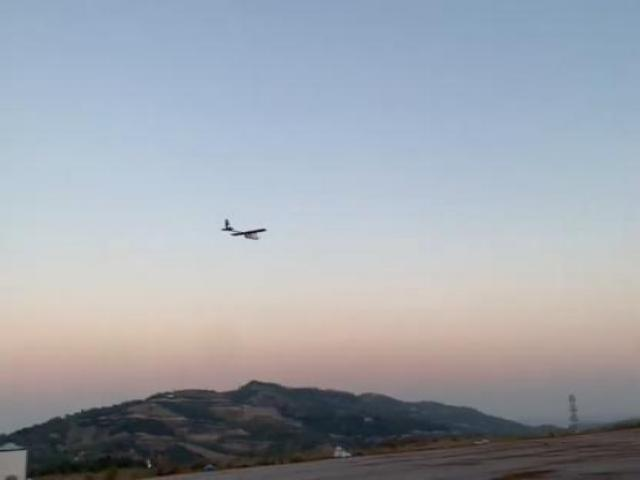uav: (221, 216, 270, 244)
